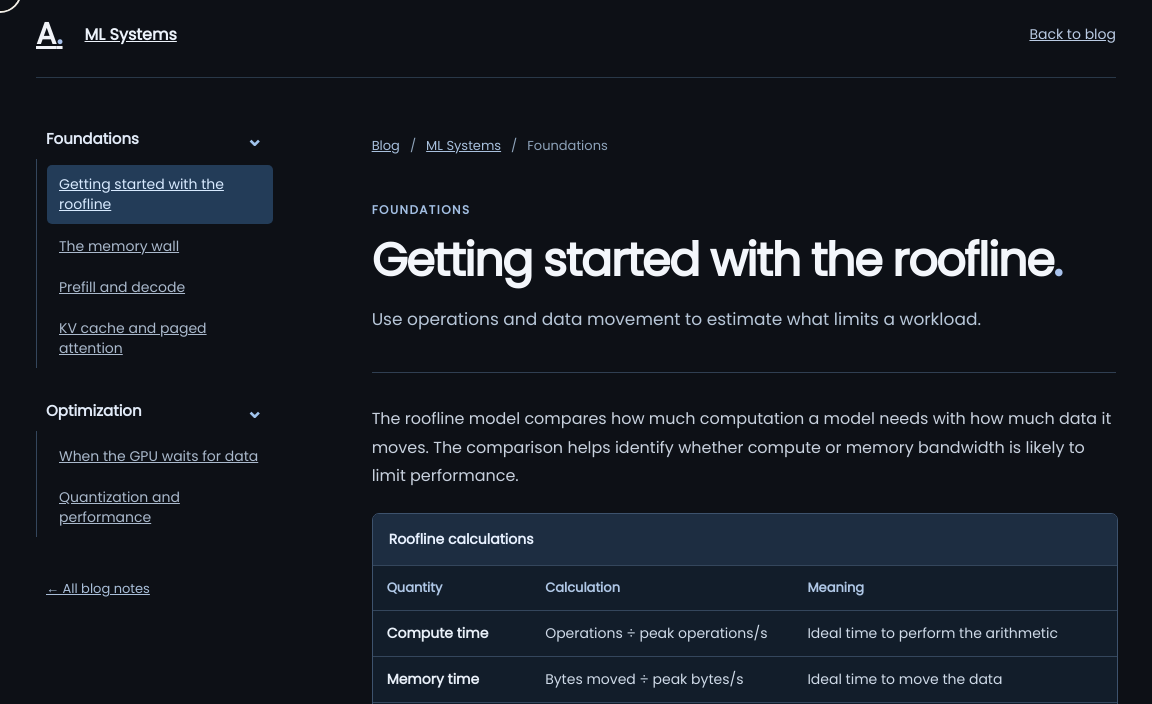
Scenario: switches notes, updates the URL, and responds to browser history
This screenshot has width=1152, height=704.
Check: the heading "Getting started with the roofline." is shown, box [372,234,1116,287]
Click the link "The memory wall" at (119, 246), box [59,236,179,256]
(page scrolled)
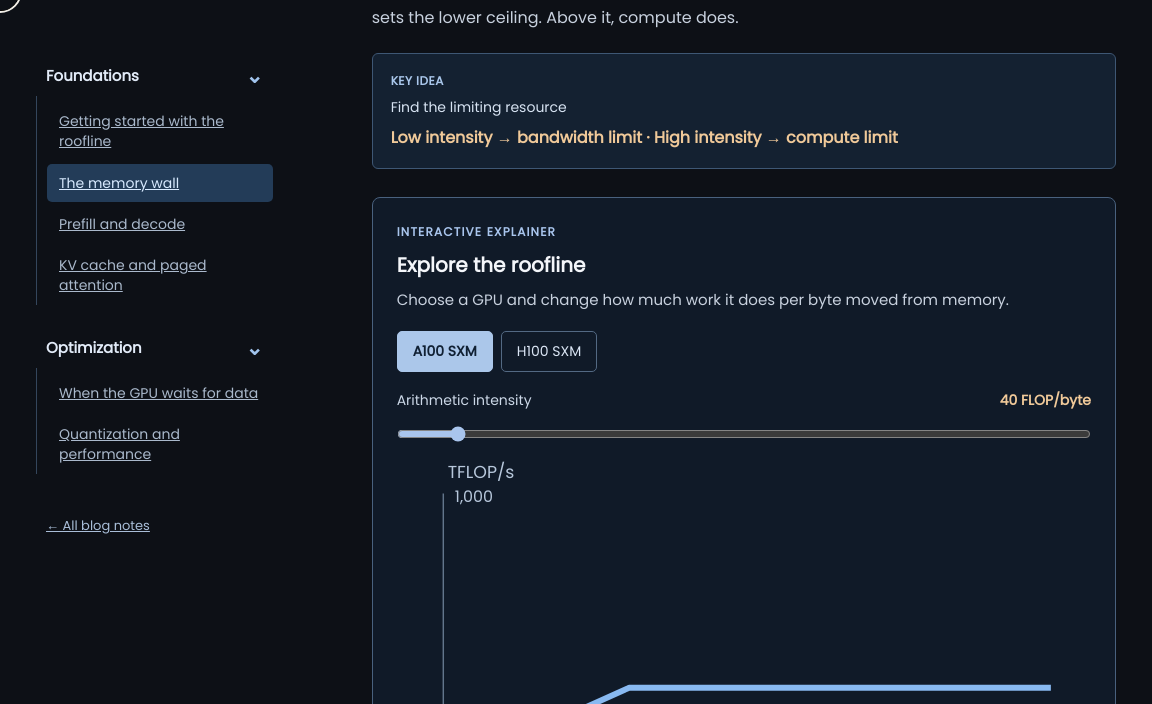
Check: the heading "Explore the roofline" is shown, box [397,251,585,279]
Click the button "H100 SXM" at (549, 351), box [501,331,597,372]
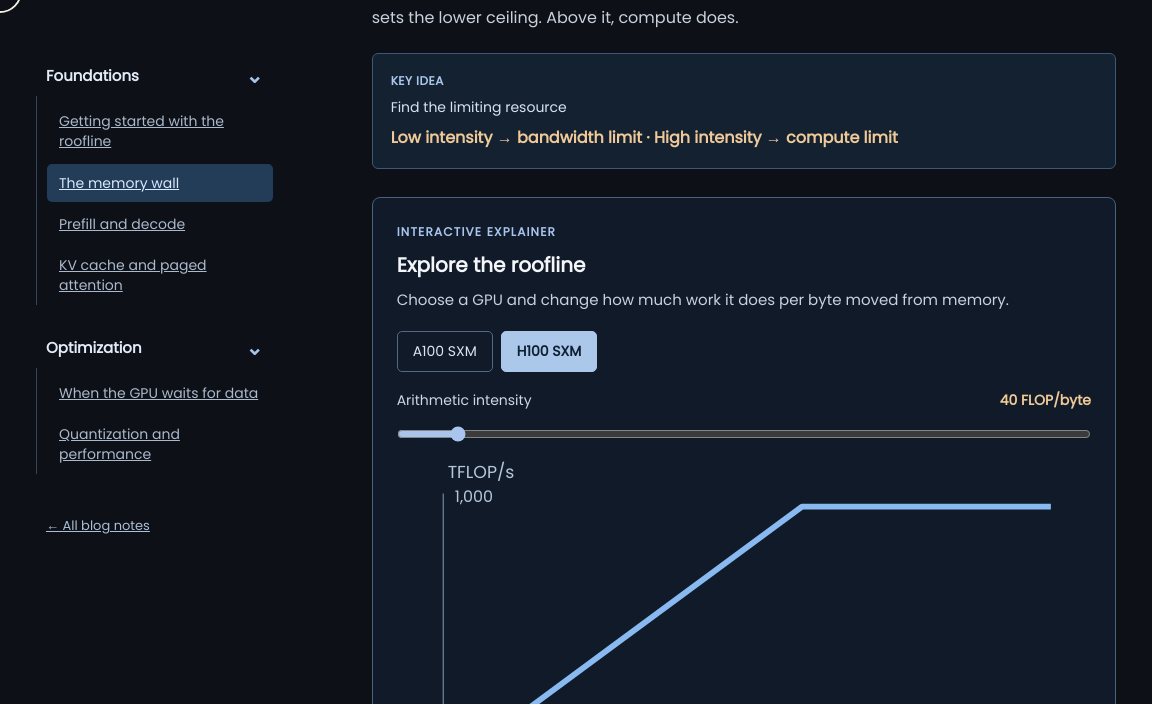
Set the slider labelled "Arithmetic intensity 40 FLOP/byte" to "400" at (947, 434), box [397,426,1091,442]
(page scrolled)
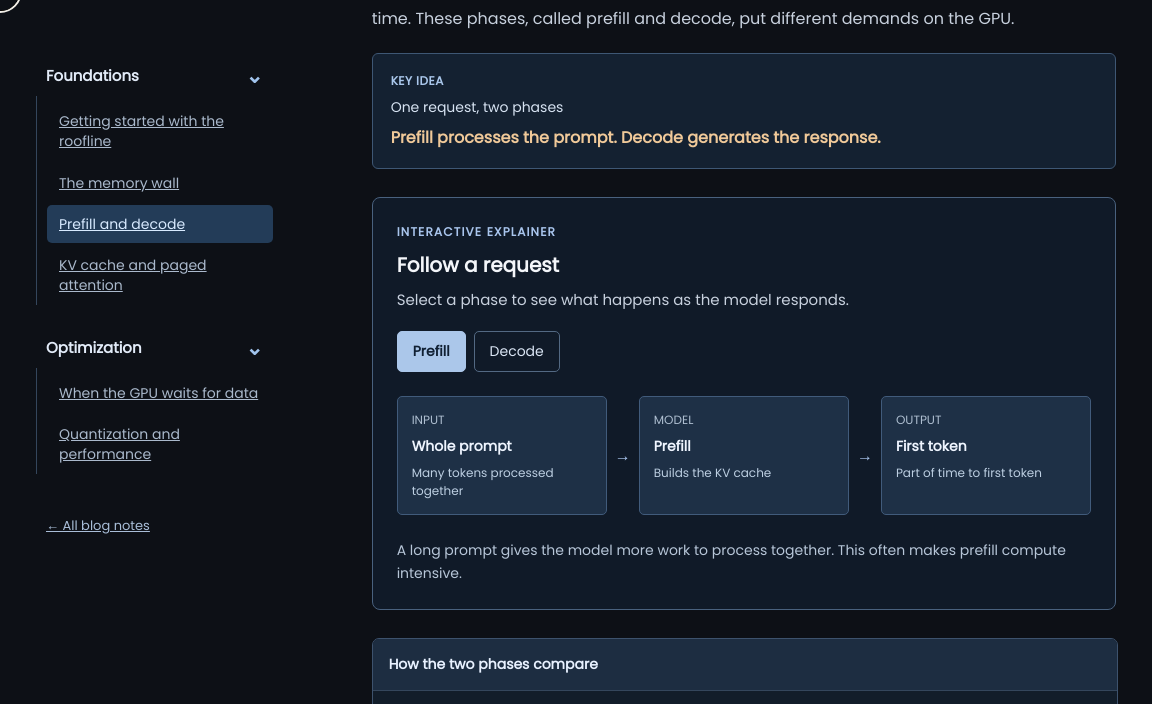
Click the button "Decode" at (517, 352), box [474,331,560,372]
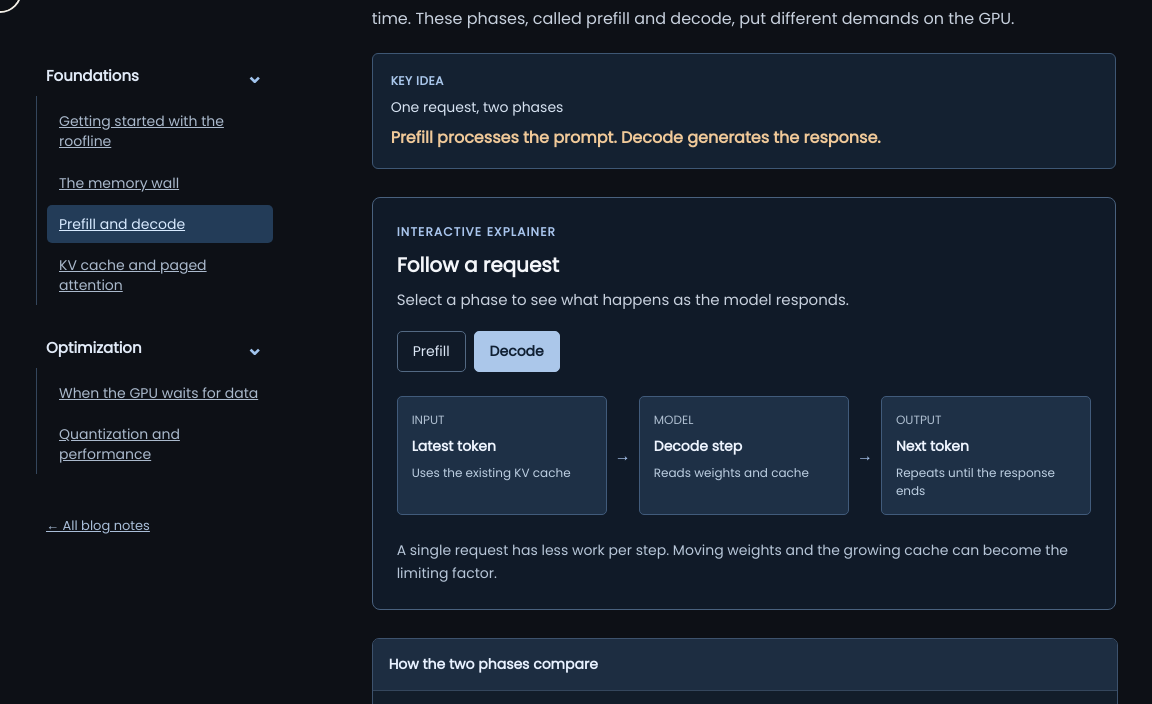
Check: the text "Decode step" is shown, box [654,436,742,456]
